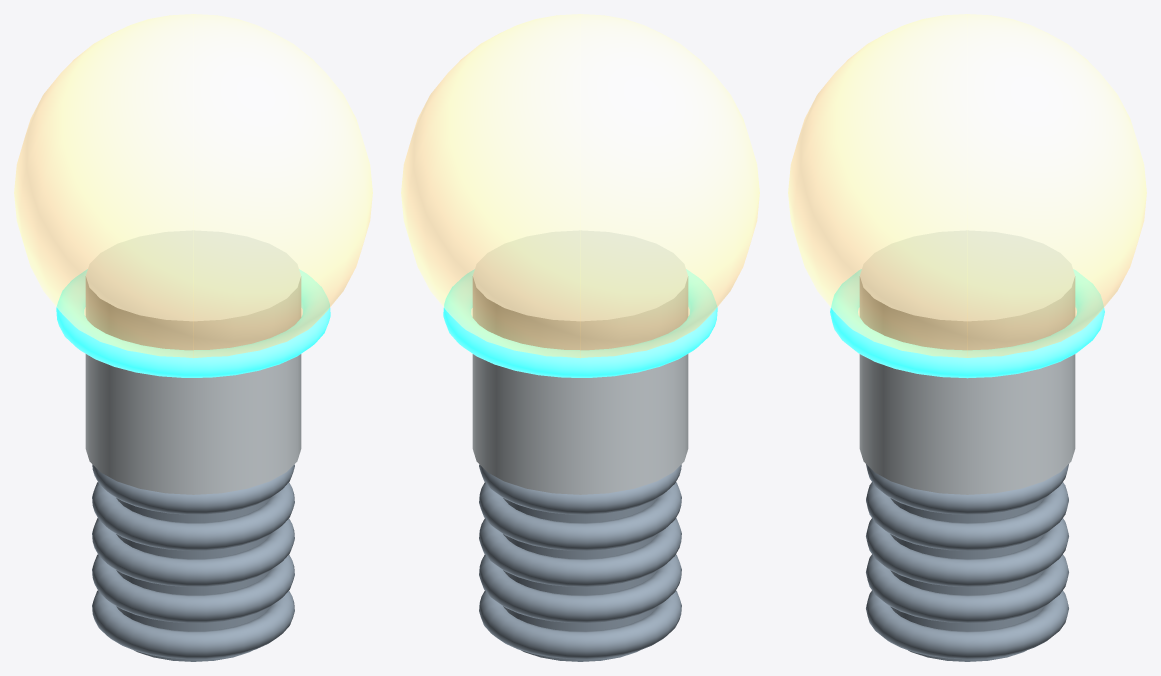
Rendered from bulb-smart.glb.
The picture shows the model from 3 angles, left to right: view 1: azimuth 30°, elevation 25°; view 2: azimuth 150°, elevation 25°; view 3: azimuth 270°, elevation 25°; orthographic projection.
Parts seen in each view (by area): view 1: glass bulb, Smart A19 bulb, status ring; view 2: glass bulb, Smart A19 bulb, status ring; view 3: glass bulb, Smart A19 bulb, status ring.
Part boxes in pixels (box(x1,y1,x2,y2)): glass bulb: box(14, 14, 372, 358); Smart A19 bulb: box(85, 230, 301, 661); status ring: box(56, 269, 330, 377); glass bulb: box(401, 14, 759, 358); Smart A19 bulb: box(472, 230, 688, 661); status ring: box(443, 269, 717, 377); glass bulb: box(788, 14, 1146, 357); Smart A19 bulb: box(859, 230, 1075, 661); status ring: box(830, 269, 1104, 378).
Size of the model in its own units: 0.9 by 1.65 by 0.9.
